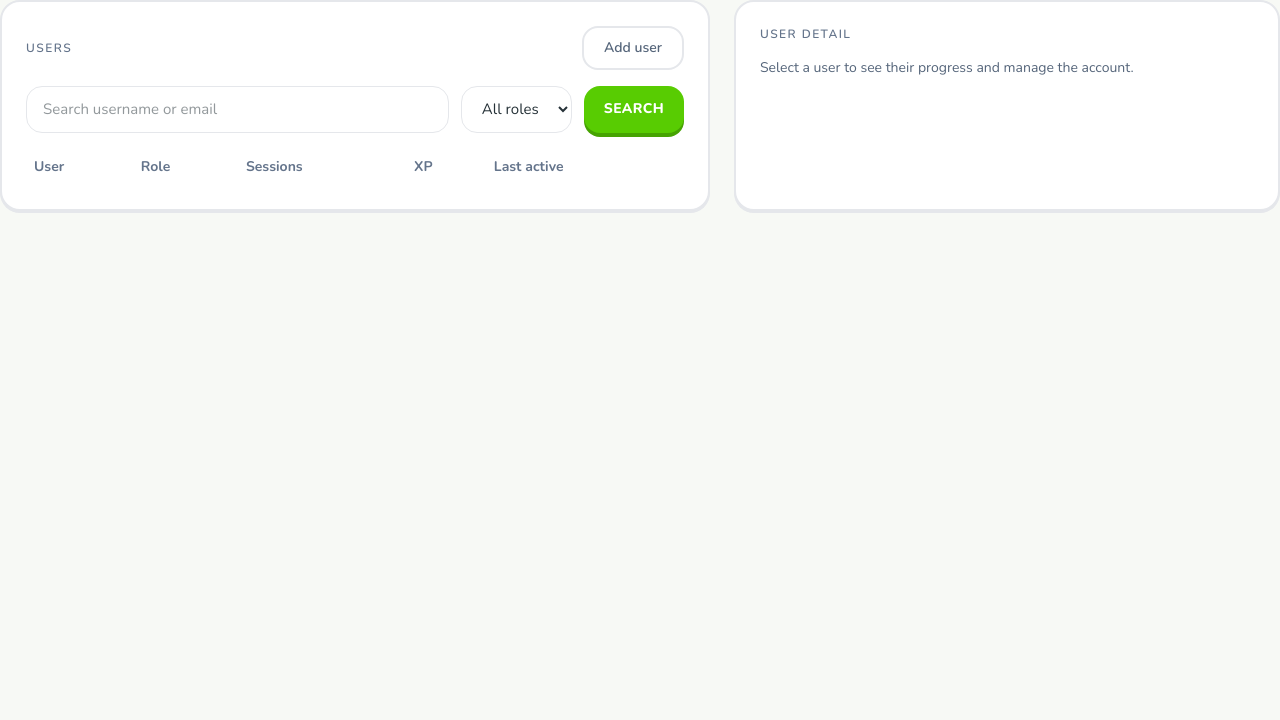
Scenario: UsersTab › defaults a new account to a learner and shows the server refusal (e.g. a taken name)
Click the button "Add user" at x=633, y=48, box 582,26 -> 684,70
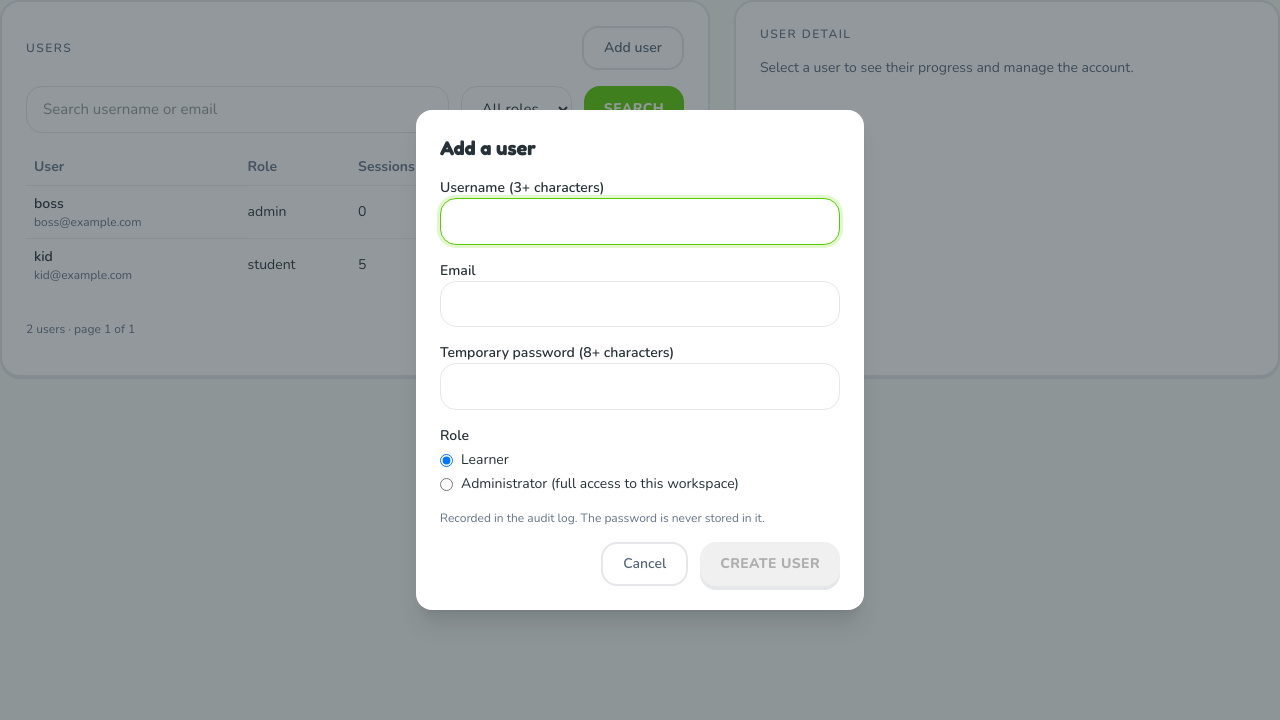
Expected: the radio button labelled "Learner" is checked, 440,454 -> 453,467
Type "kid" into the field labelled "Username (3+ characters)" at x=640, y=221, box 440,198 -> 840,245
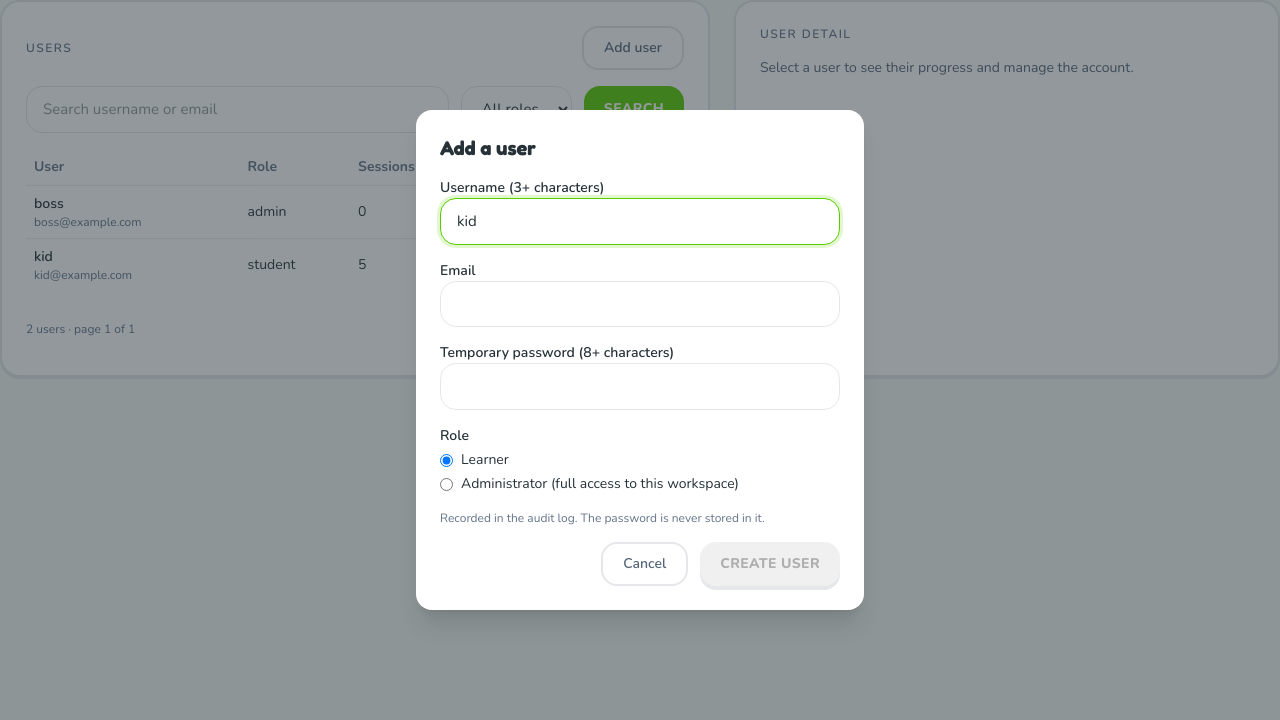
Type "kid@example.com" into the field labelled "Email" at x=640, y=304, box 440,281 -> 840,328
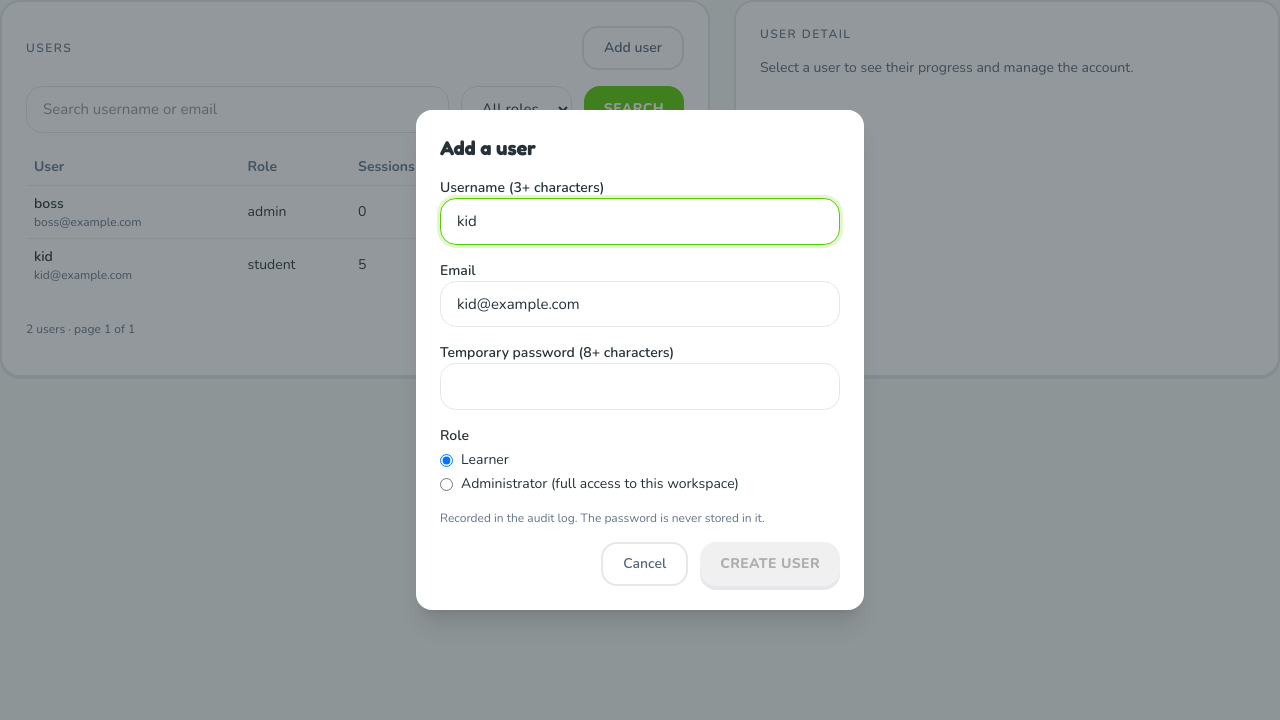
Type "long-enough-1" into the password field labelled "Temporary password (8+ characters)" at x=640, y=387, box 440,363 -> 840,410
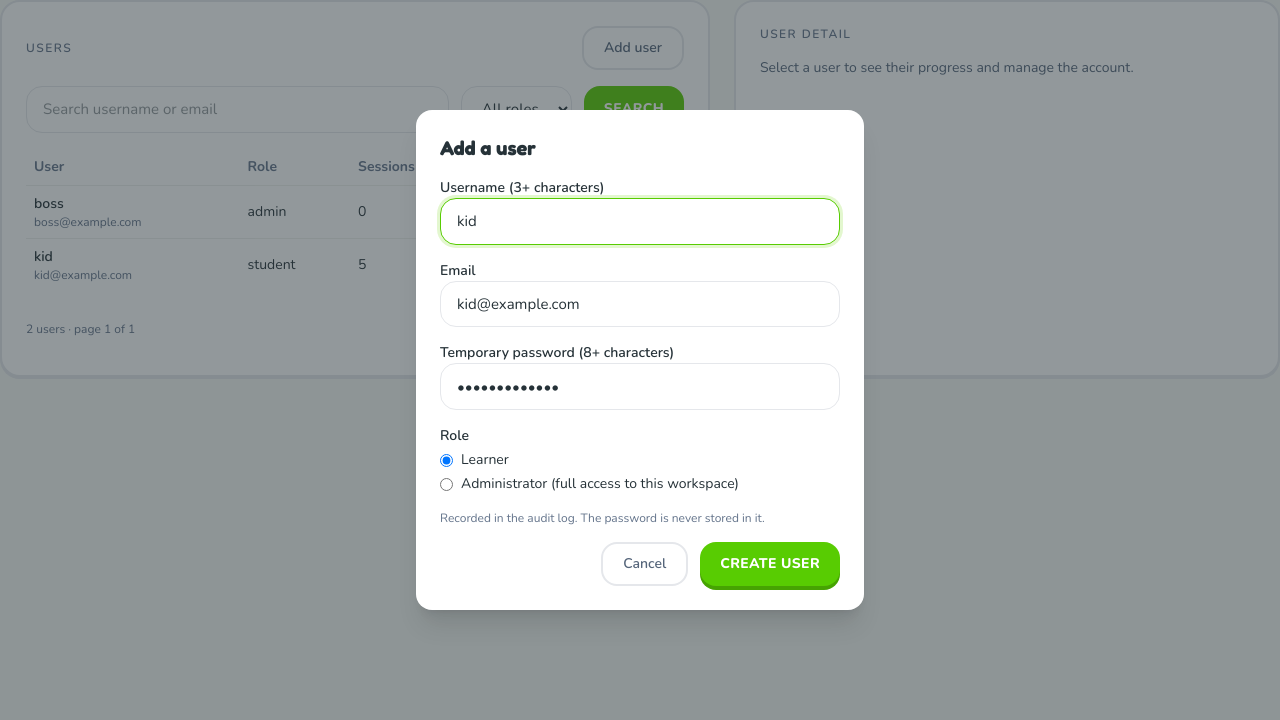
Click the button "Create user" at x=770, y=564, box 700,542 -> 840,586
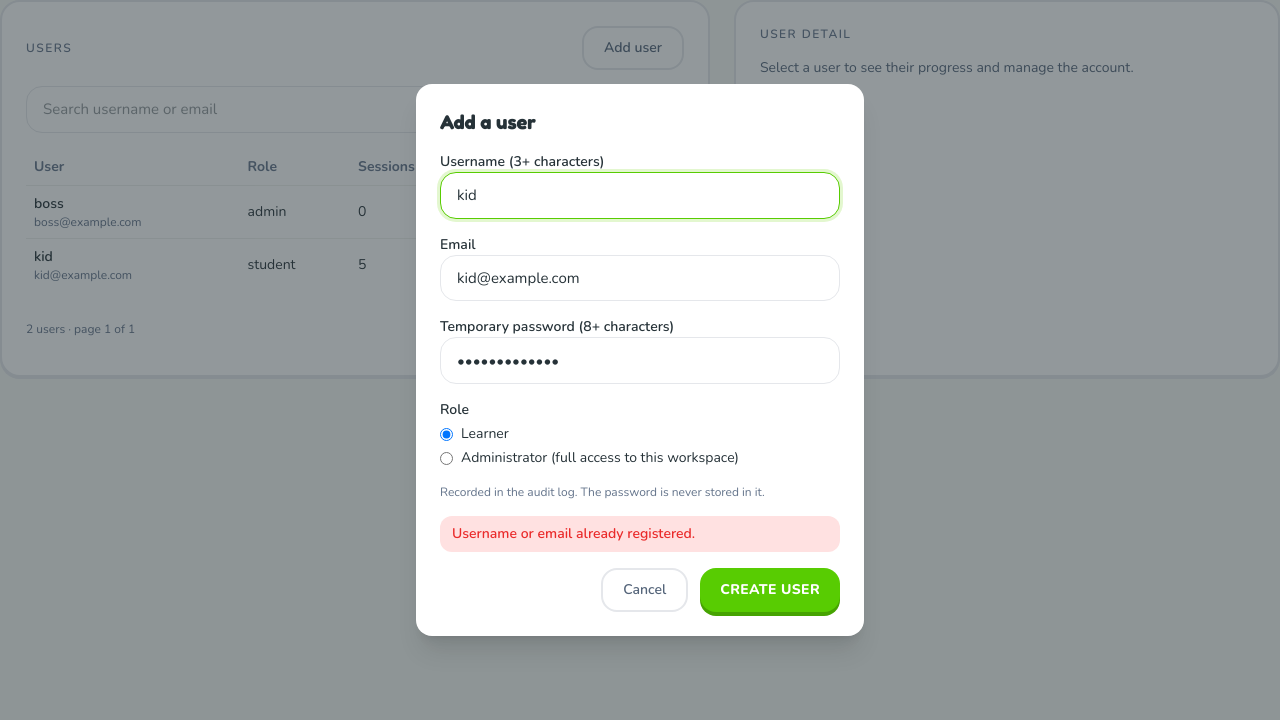
Expected: the message shows "already registered", 452,524 -> 695,543
